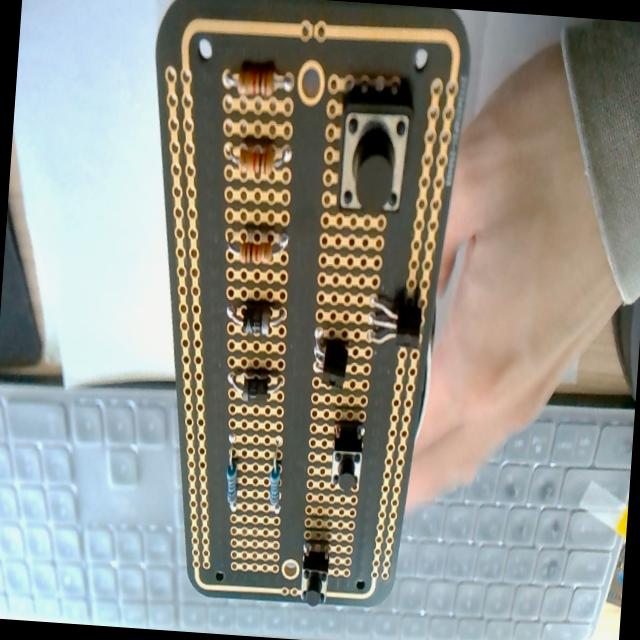diode: (226, 300, 286, 338), (226, 368, 282, 405)
resistor: (224, 226, 290, 268), (223, 140, 290, 180), (226, 62, 292, 99), (265, 438, 285, 514), (223, 460, 240, 510)
switch: (336, 96, 414, 218), (328, 424, 364, 495), (300, 542, 330, 608)
transistor: (365, 294, 424, 349), (310, 324, 355, 390)
